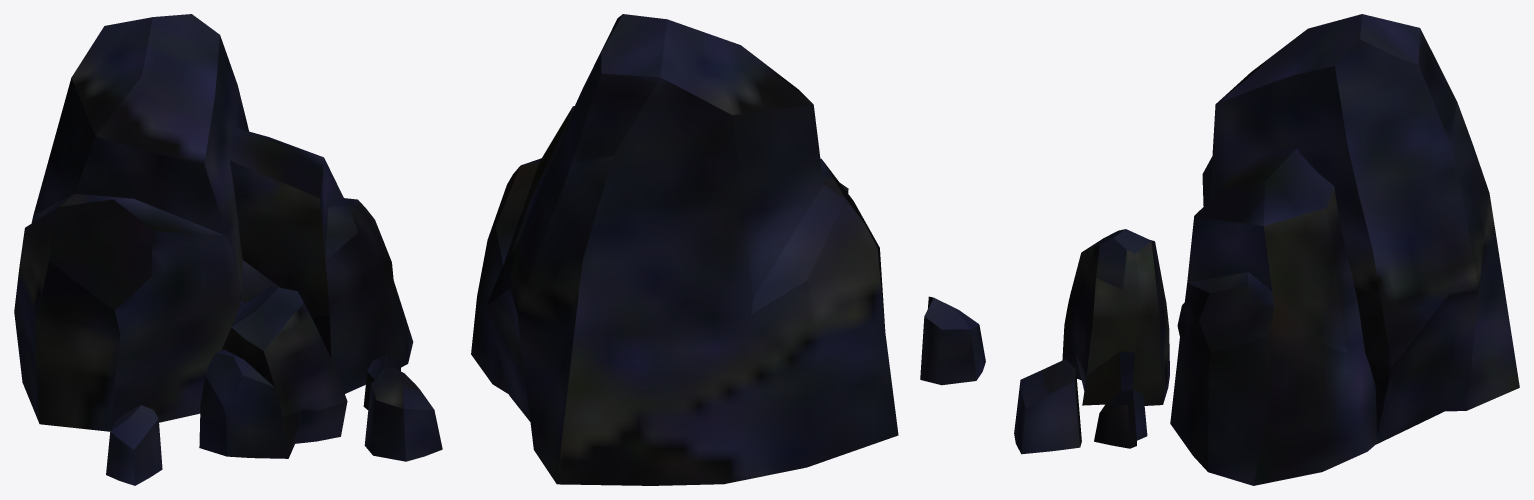
The model's file is RockGroup002.fbx.
3 views of the same model, side by side, from view 1: azimuth 30°, elevation 25°; view 2: azimuth 150°, elevation 25°; view 3: azimuth 270°, elevation 25° (orthographic). The views are drawn at different scales.
Visible parts, largest first — view 1: Resource_Rock_1; view 2: Resource_Rock_1; view 3: Resource_Rock_1.
Boxes of the visible parts, x1,y1,x2,y2 form: Resource_Rock_1: (14, 14, 442, 485); Resource_Rock_1: (471, 14, 985, 485); Resource_Rock_1: (1014, 14, 1519, 485).
Bounding box in the file's own units: 619 × 566 × 698.
1 material, 1 textured.
